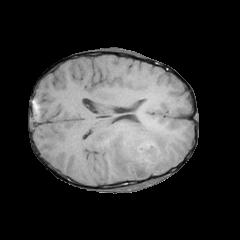glioma: (106, 122, 174, 178)
